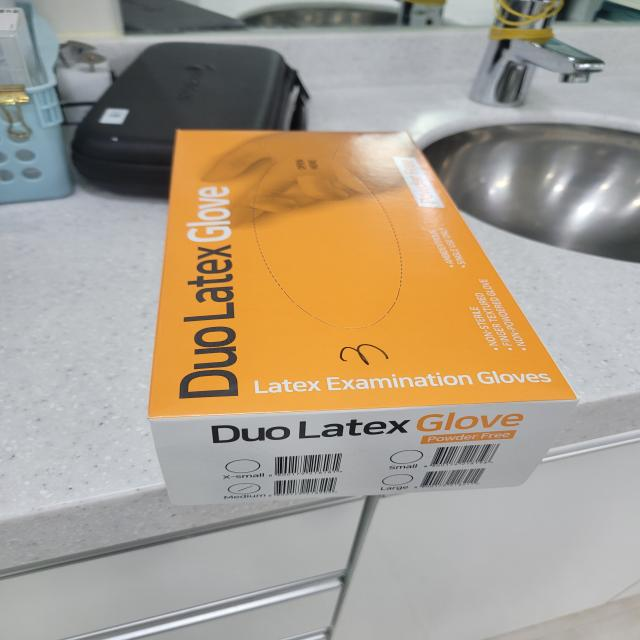glove: (120, 100, 603, 521)
